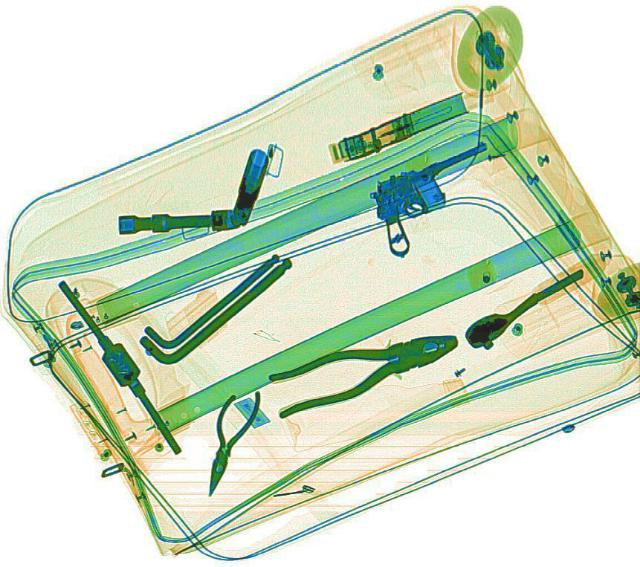Gun: (352, 137, 524, 260)
Pliers: (260, 316, 468, 419), (193, 383, 261, 498)
